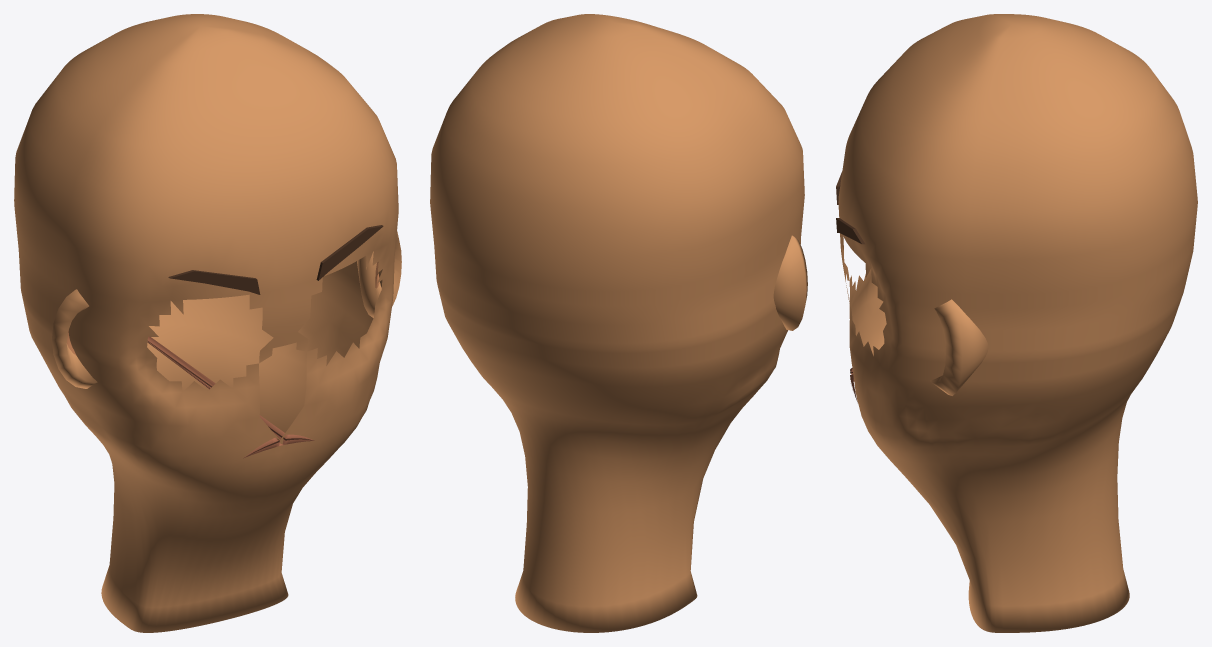
The model's file is base-feminina-02.glb.
3 renders of one model, left to right at view 1: azimuth 30°, elevation 25°; view 2: azimuth 150°, elevation 25°; view 3: azimuth 270°, elevation 25°, orthographic. The views are drawn at different scales.
Parts seen in each view (by area): view 1: RCL_Base_Feminina_02, RCL_Orelha_base-f-02_-1, RCL_Orelha_base-f-02_1, RCL_Labios_base-f-02, RCL_Sobrancelha_base-f-02_-1, RCL_Sobrancelha_base-f-02_1; view 2: RCL_Base_Feminina_02, RCL_Orelha_base-f-02_-1; view 3: RCL_Base_Feminina_02, RCL_Orelha_base-f-02_1.
Part boxes in pixels (x1,y1,x2,y2): RCL_Base_Feminina_02: (14,14,398,632); RCL_Orelha_base-f-02_-1: (52,289,97,388); RCL_Orelha_base-f-02_1: (357,231,401,317); RCL_Labios_base-f-02: (147,336,313,457); RCL_Sobrancelha_base-f-02_-1: (168,270,260,294); RCL_Sobrancelha_base-f-02_1: (316,225,383,280); RCL_Base_Feminina_02: (430,14,804,632); RCL_Orelha_base-f-02_-1: (773,235,807,330); RCL_Base_Feminina_02: (838,14,1197,632); RCL_Orelha_base-f-02_1: (930,299,988,395).
Size of the model in its own units: 0.192 by 0.305 by 0.1752.
